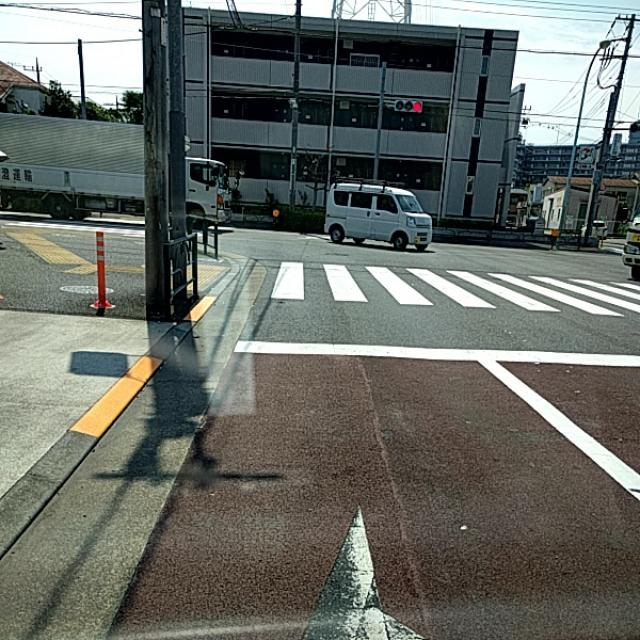pothole: (305, 518, 378, 590)
